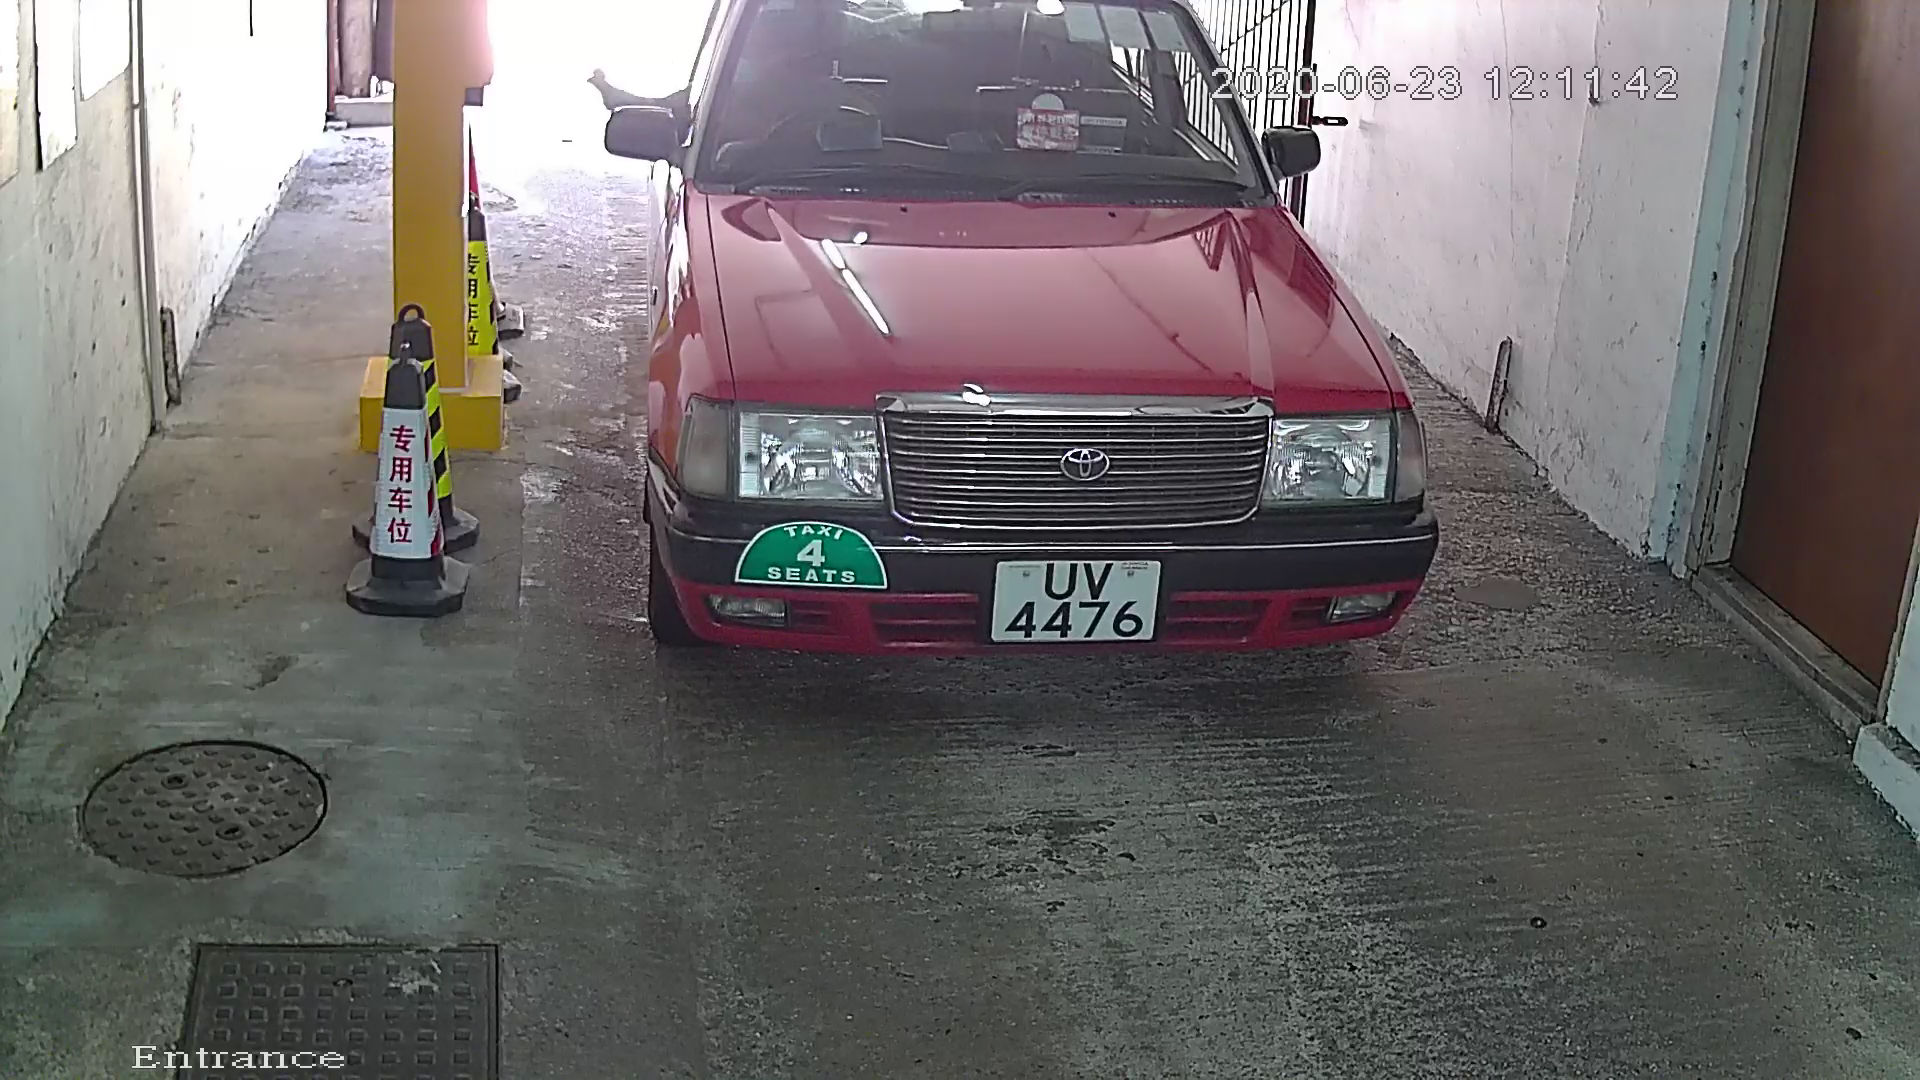taxi: (531, 3, 1607, 804)
taxi_mark: (715, 502, 906, 617)
